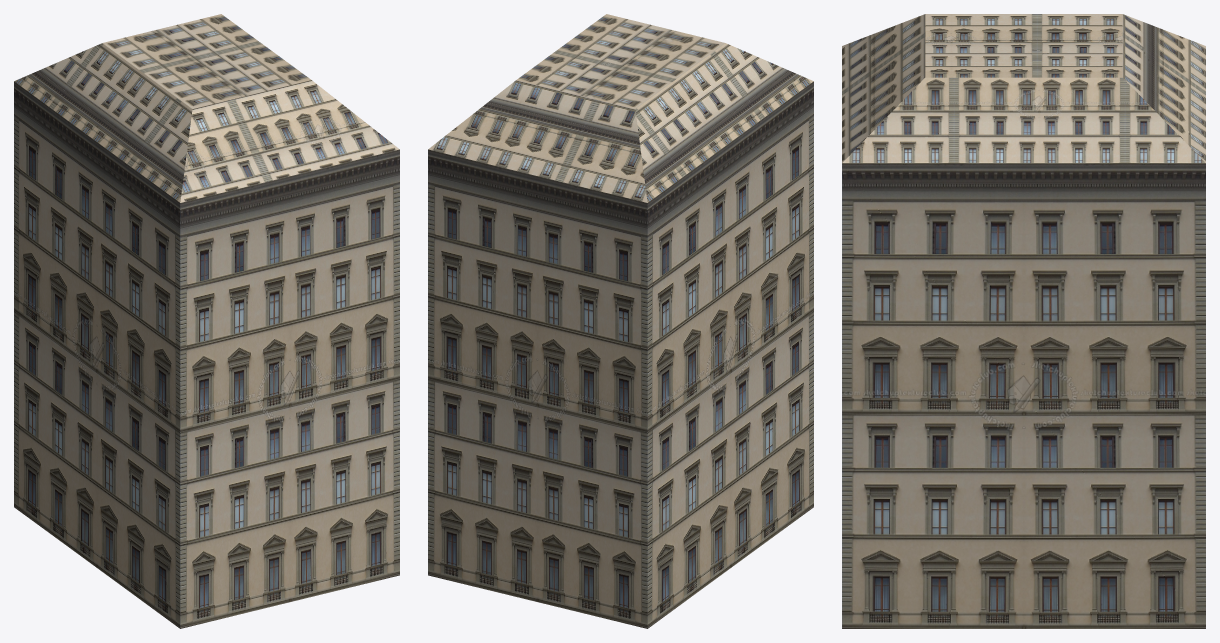
The model's file is binm mönsgsdf65465.fbx.
The picture shows the model from 3 angles, left to right: view 1: azimuth 30°, elevation 25°; view 2: azimuth 150°, elevation 25°; view 3: azimuth 270°, elevation 25°; orthographic projection. The views are drawn at different scales.
Parts seen in each view (by area): view 1: Cube; view 2: Cube; view 3: Cube.
Boxes of the visible parts, box(x1,y1,x2,y2) form: Cube: box(14, 14, 399, 628); Cube: box(428, 14, 813, 628); Cube: box(842, 14, 1205, 628).
Bounding box in the file's own units: 200 × 418 × 262.
1 material, 1 textured.
